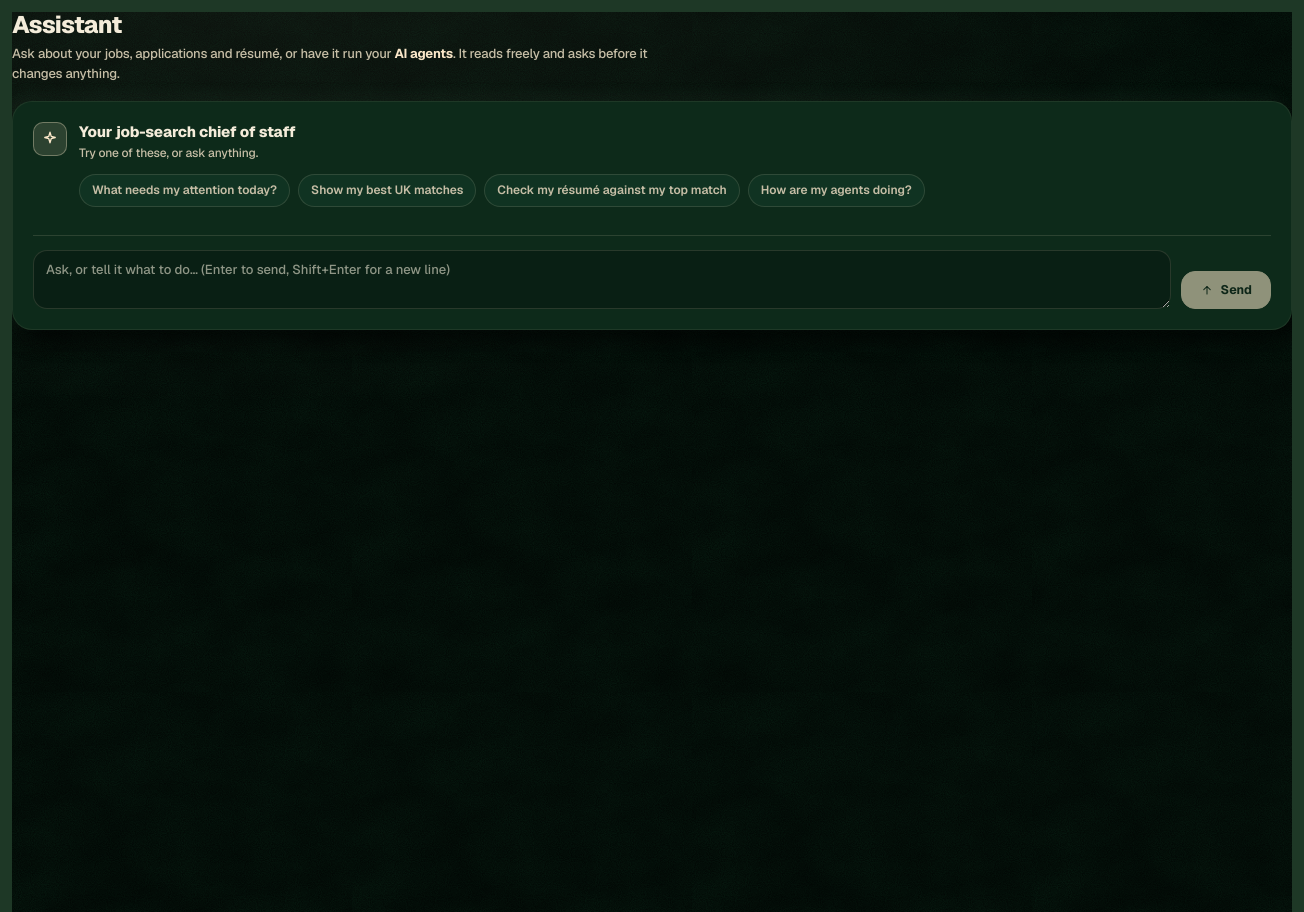
Test: AssistantPage › cancel changes nothing
Type "approve them" into the text box named "Message the assistant". click: [602, 280]
box: [33,250,1171,309]
Then press Enter
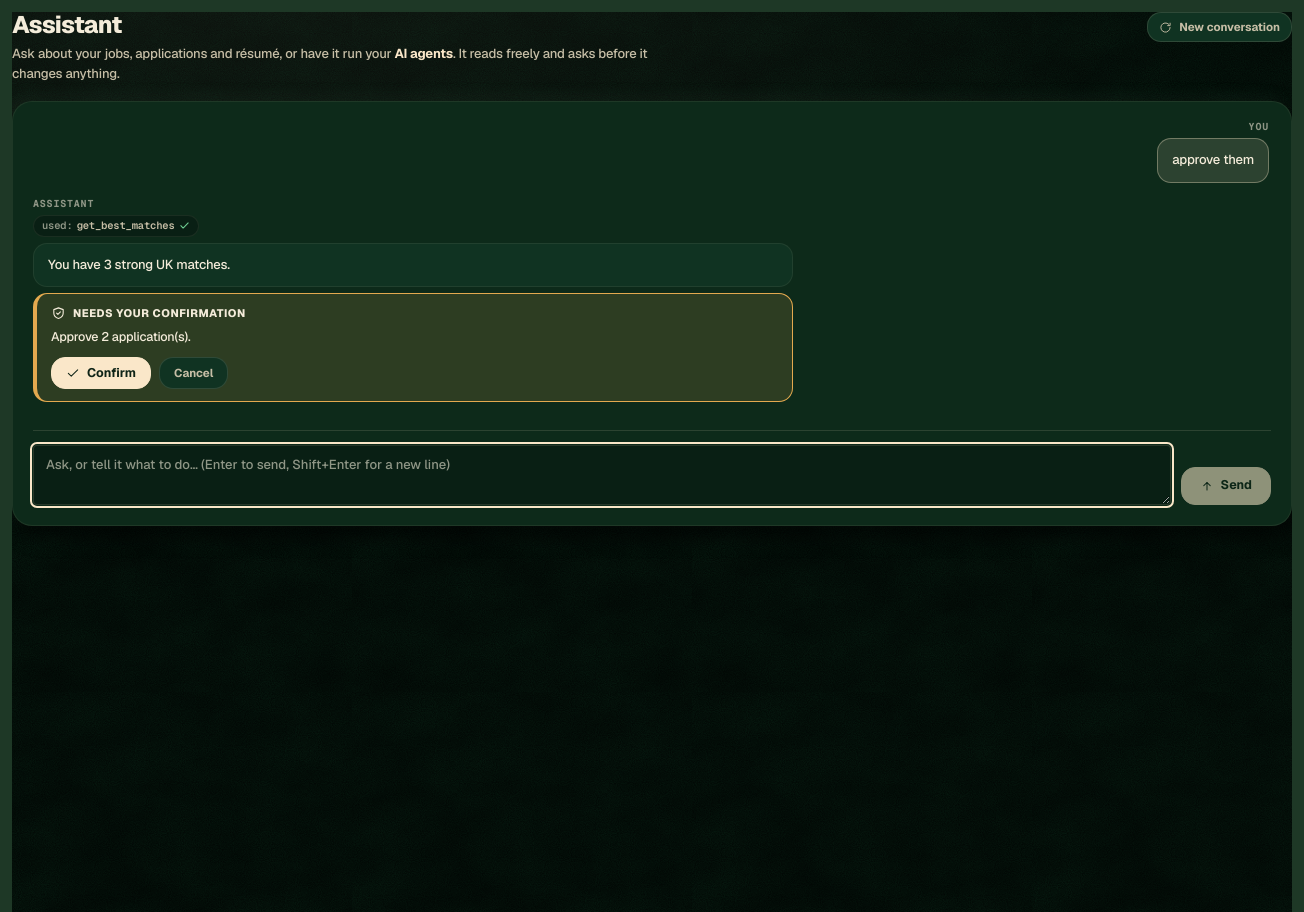
Click the button "Cancel". click: [194, 373]
box: [159,357,228,389]
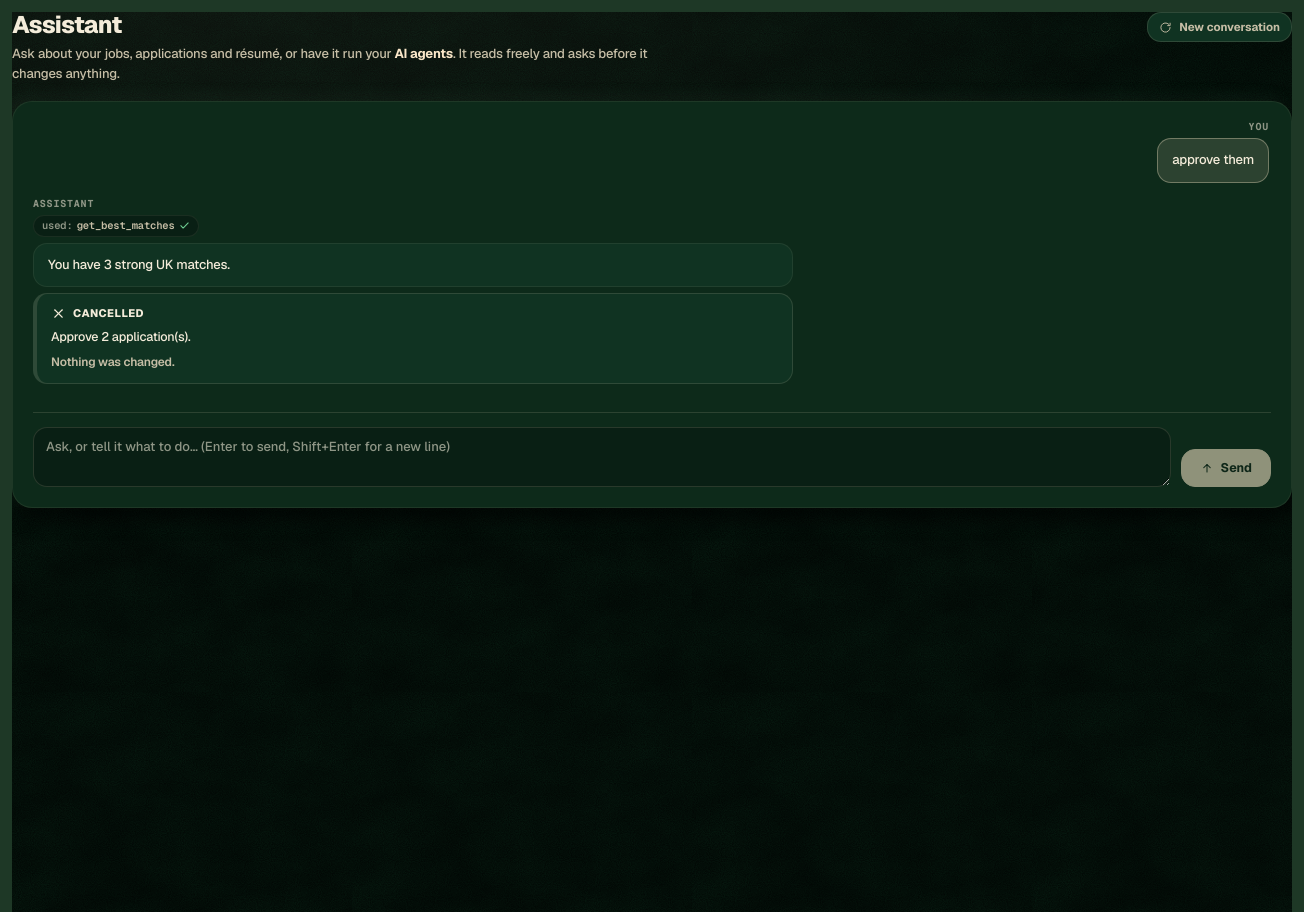
Expected: the text "Nothing was changed." is shown, [51,354,174,370]
Expected: the text "confirm" is gone
